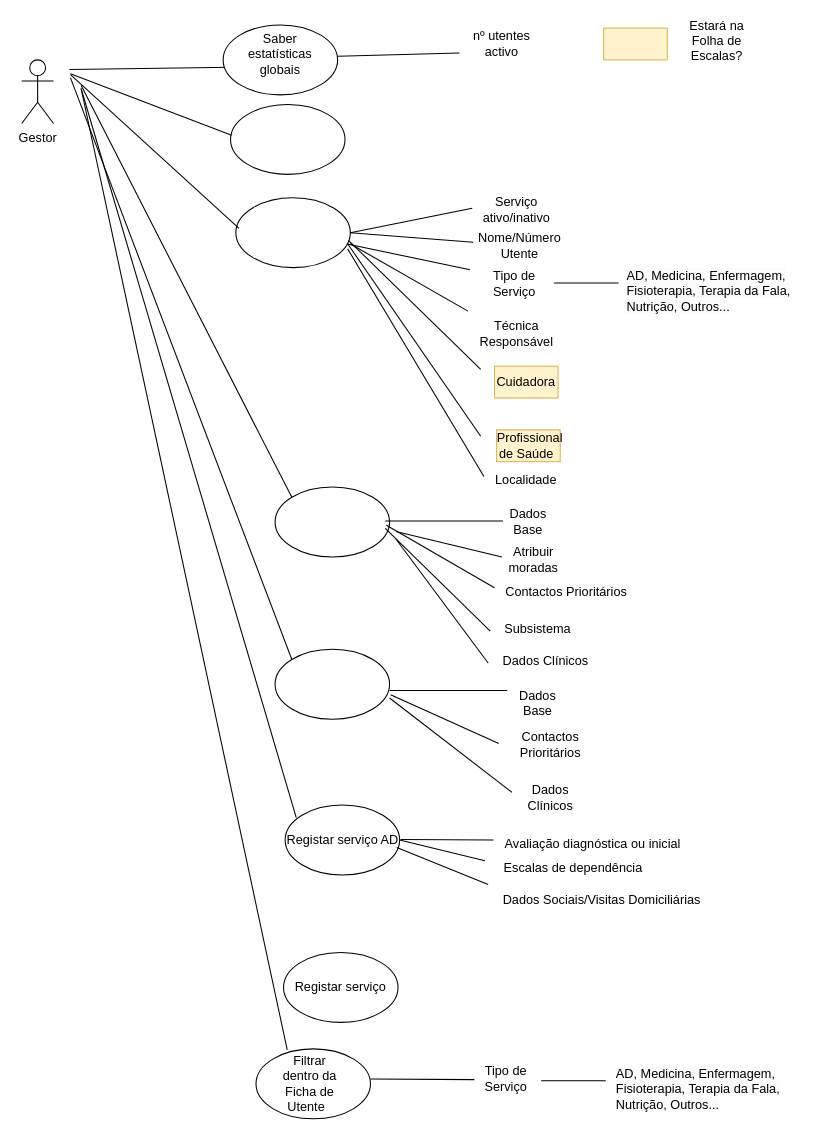
Some shapes in this 819 by 1137 pixel diagram are drawn without their labels. The centre of each missing label's shape, as x and y in pixels:
"Consultar Lista de Utentes" goes at [287,138].
"Consultar Utente e seus dados individualmente" goes at [332,683].
"Criar Novo Utente" goes at [332,521].
"Filtrar Utentes através de campos" goes at [292,232].
